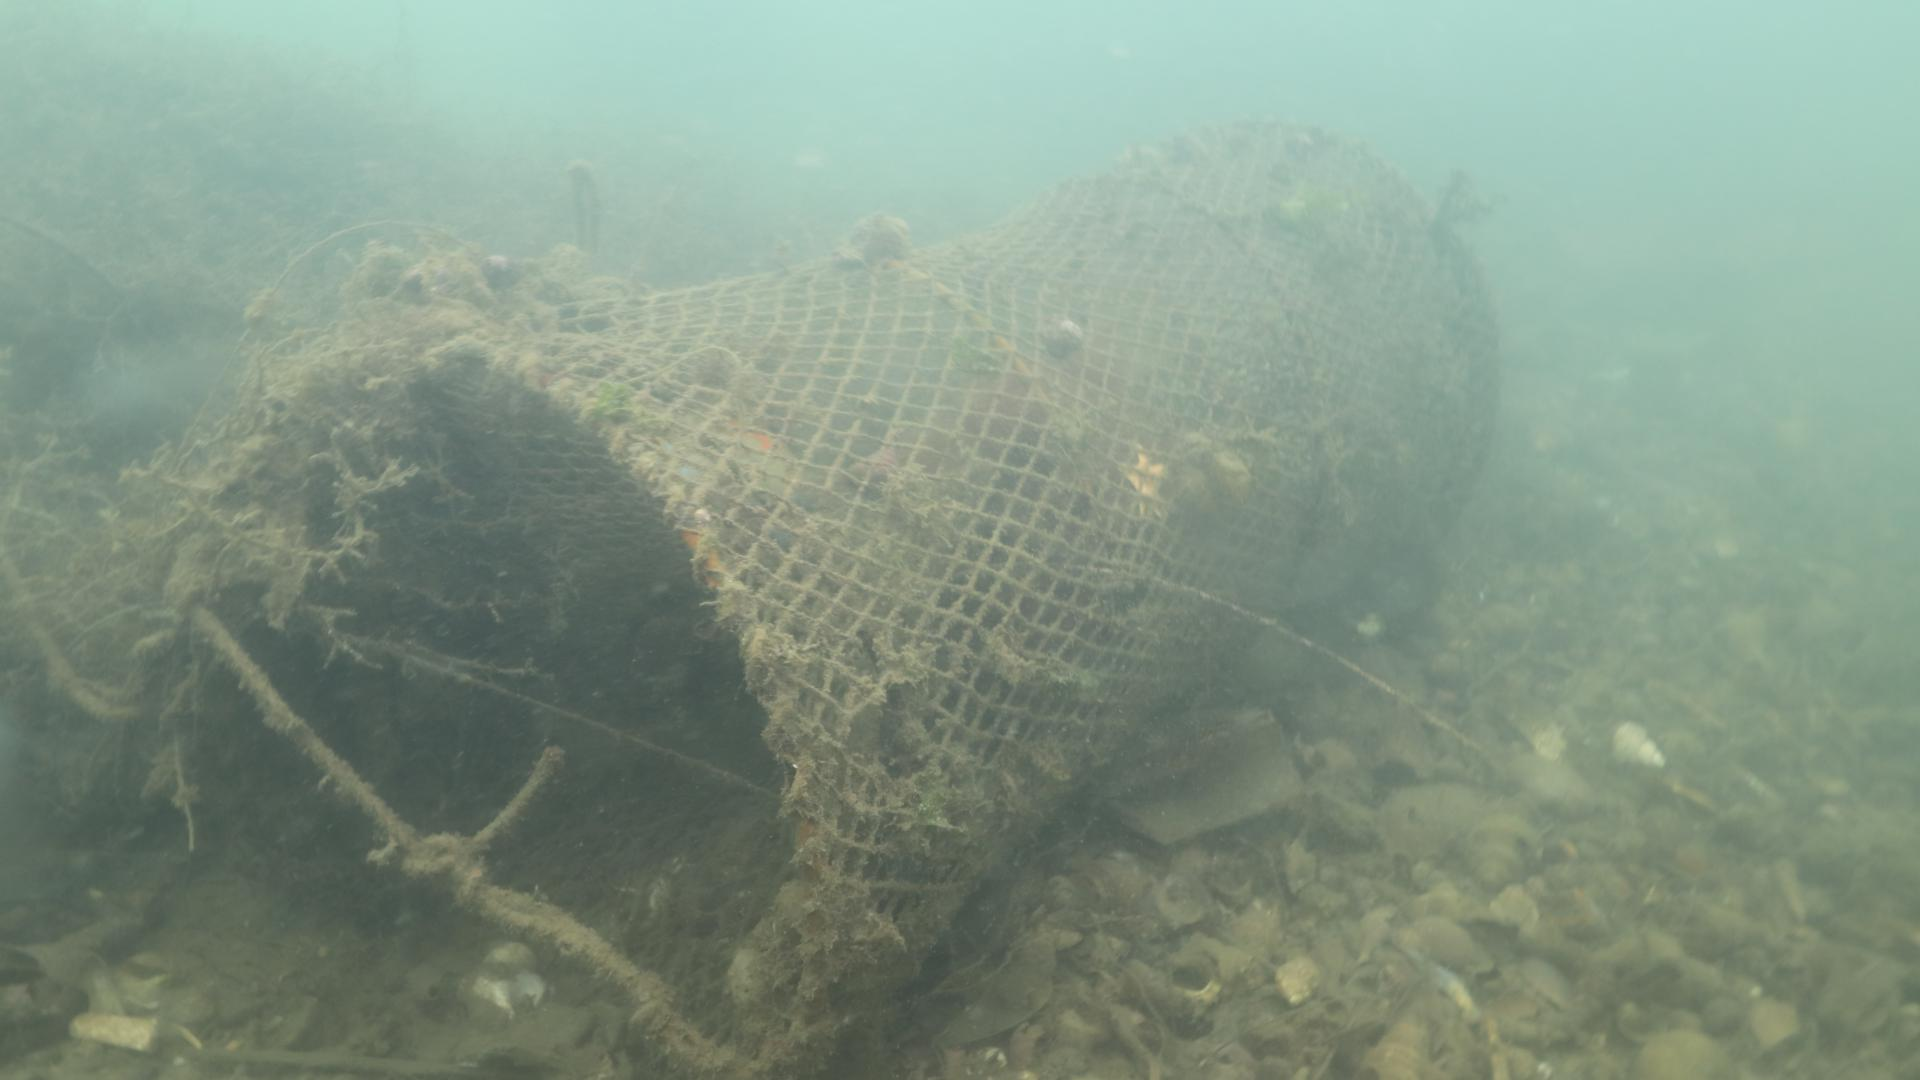spring fish trap: (177, 125, 1491, 1080)
